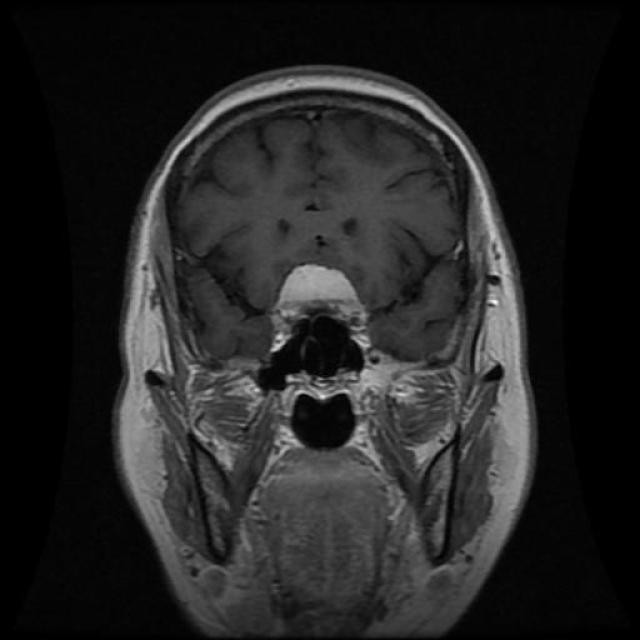meningioma: (279, 265, 356, 304)
